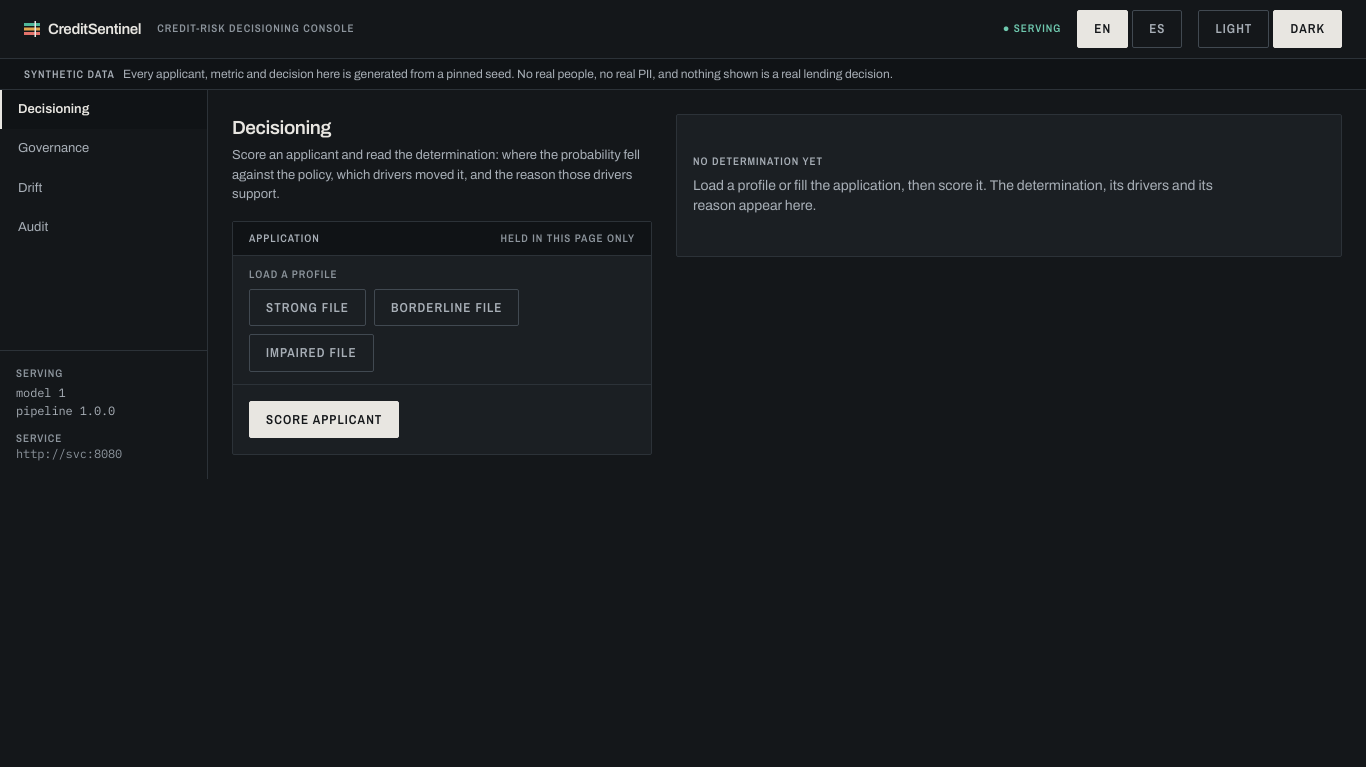
Test: no client-side persistence of applicant data › writes no applicant attribute value to local or session storage
The width and height of the screenshot is (1366, 767).
Click the button "Score applicant" at {"x": 324, "y": 420}, box [249,401,399,438]
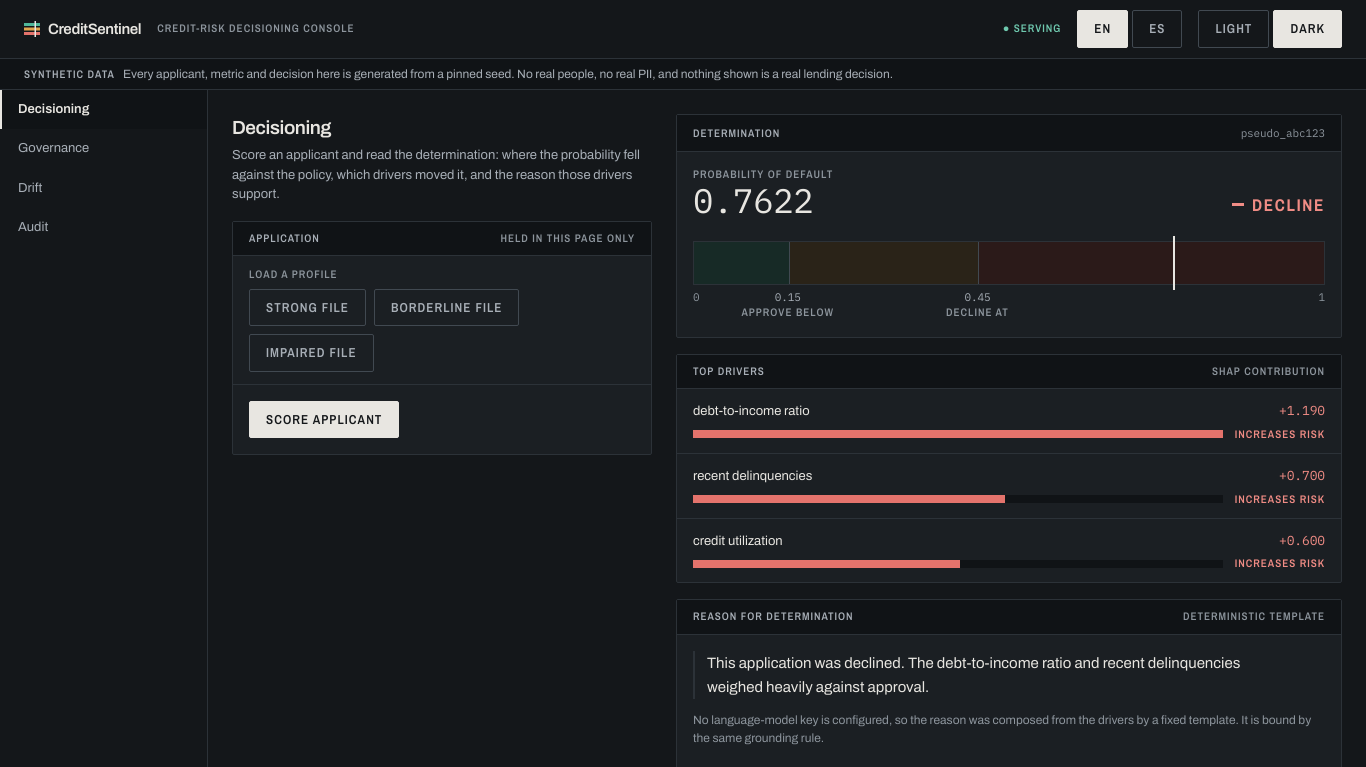
Now the text "0.7622" is shown, box [693,183,833,217]
